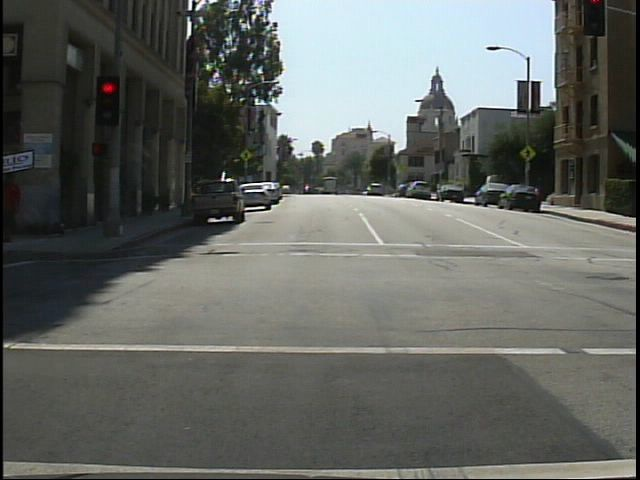person: (2, 160, 25, 245)
